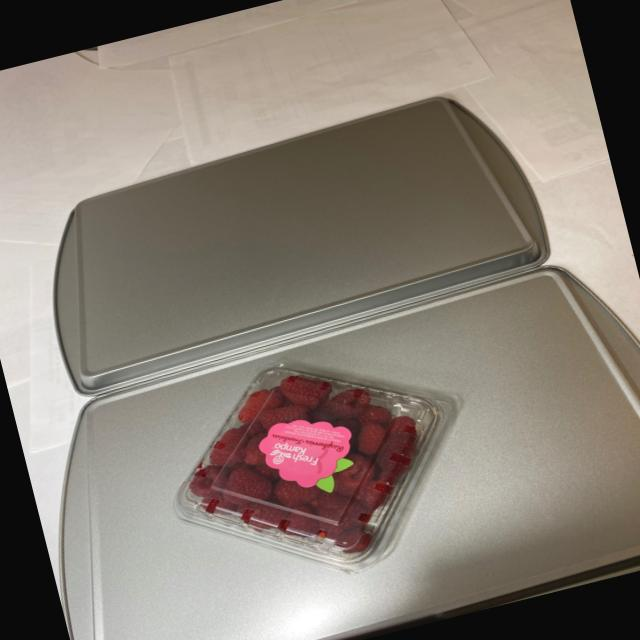raspberries: (168, 351, 442, 586)
